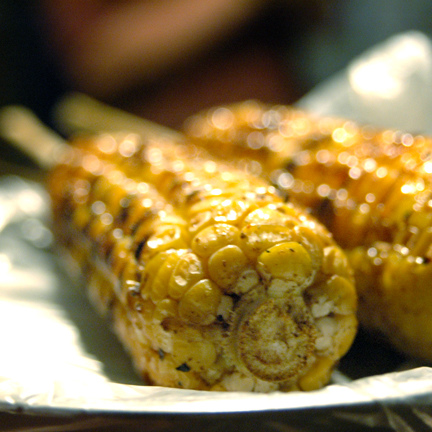corn: (47, 130, 357, 393), (184, 100, 430, 362)
